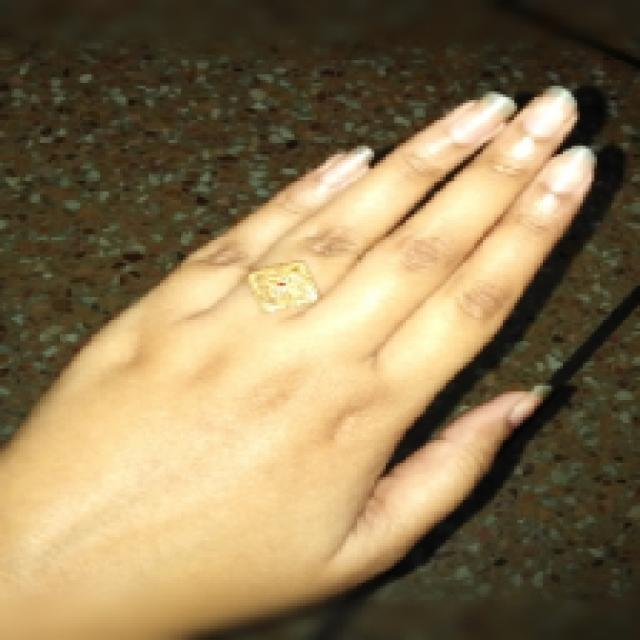Nail: (450, 92, 515, 143), (522, 86, 575, 139), (541, 146, 595, 192), (319, 148, 371, 188), (509, 384, 552, 427)
